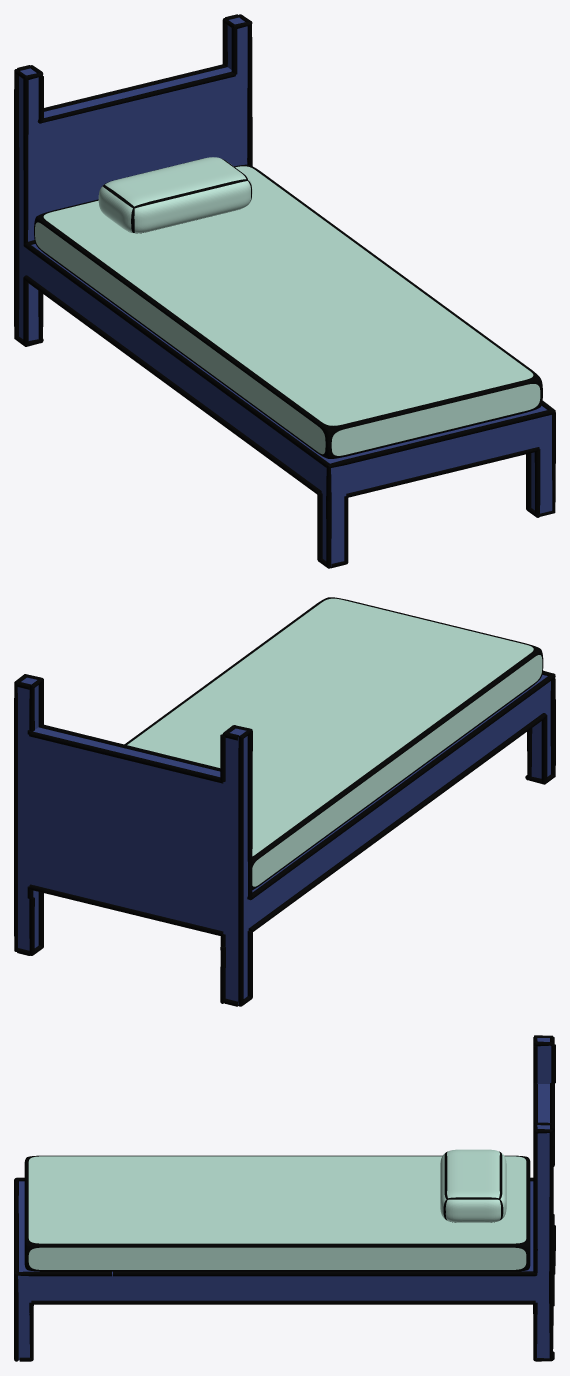
The model's file is 1st-Level Hospital Bed.fbx.
3 renders of one model, top to bottom at view 1: azimuth 30°, elevation 25°; view 2: azimuth 150°, elevation 25°; view 3: azimuth 270°, elevation 25°, orthographic. The views are drawn at different scales.
Parts seen in each view (by area): view 1: Bed.001; view 2: Bed.001; view 3: Bed.001.
Boxes of the visible parts, x1,y1,x2,y2 form: Bed.001: (14,14,555,568); Bed.001: (14,597,555,1006); Bed.001: (14,1035,555,1361).
Size of the model in its own units: 144 by 162 by 343.
